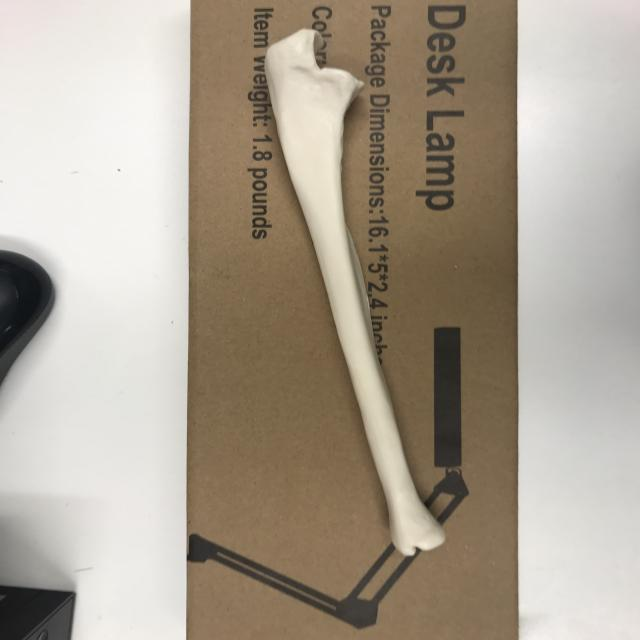bone: (262, 27, 448, 559)
